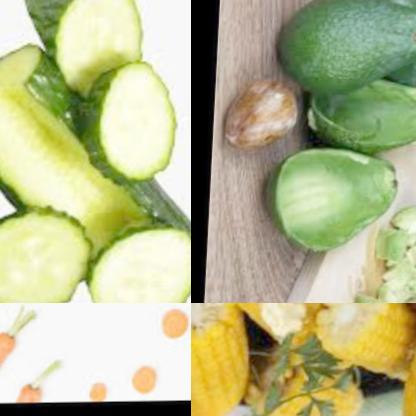avocado: (258, 147, 416, 260), (275, 0, 416, 75), (285, 77, 416, 157), (360, 0, 416, 94), (375, 191, 416, 303)
carrot: (0, 316, 25, 405), (158, 303, 191, 351), (127, 366, 169, 401), (86, 382, 118, 403), (27, 382, 49, 404)
corn: (308, 303, 416, 383), (191, 303, 257, 416), (194, 303, 324, 348)
cucumber: (0, 39, 191, 287), (12, 0, 154, 94), (85, 62, 191, 175), (0, 205, 99, 303), (87, 217, 191, 303)
